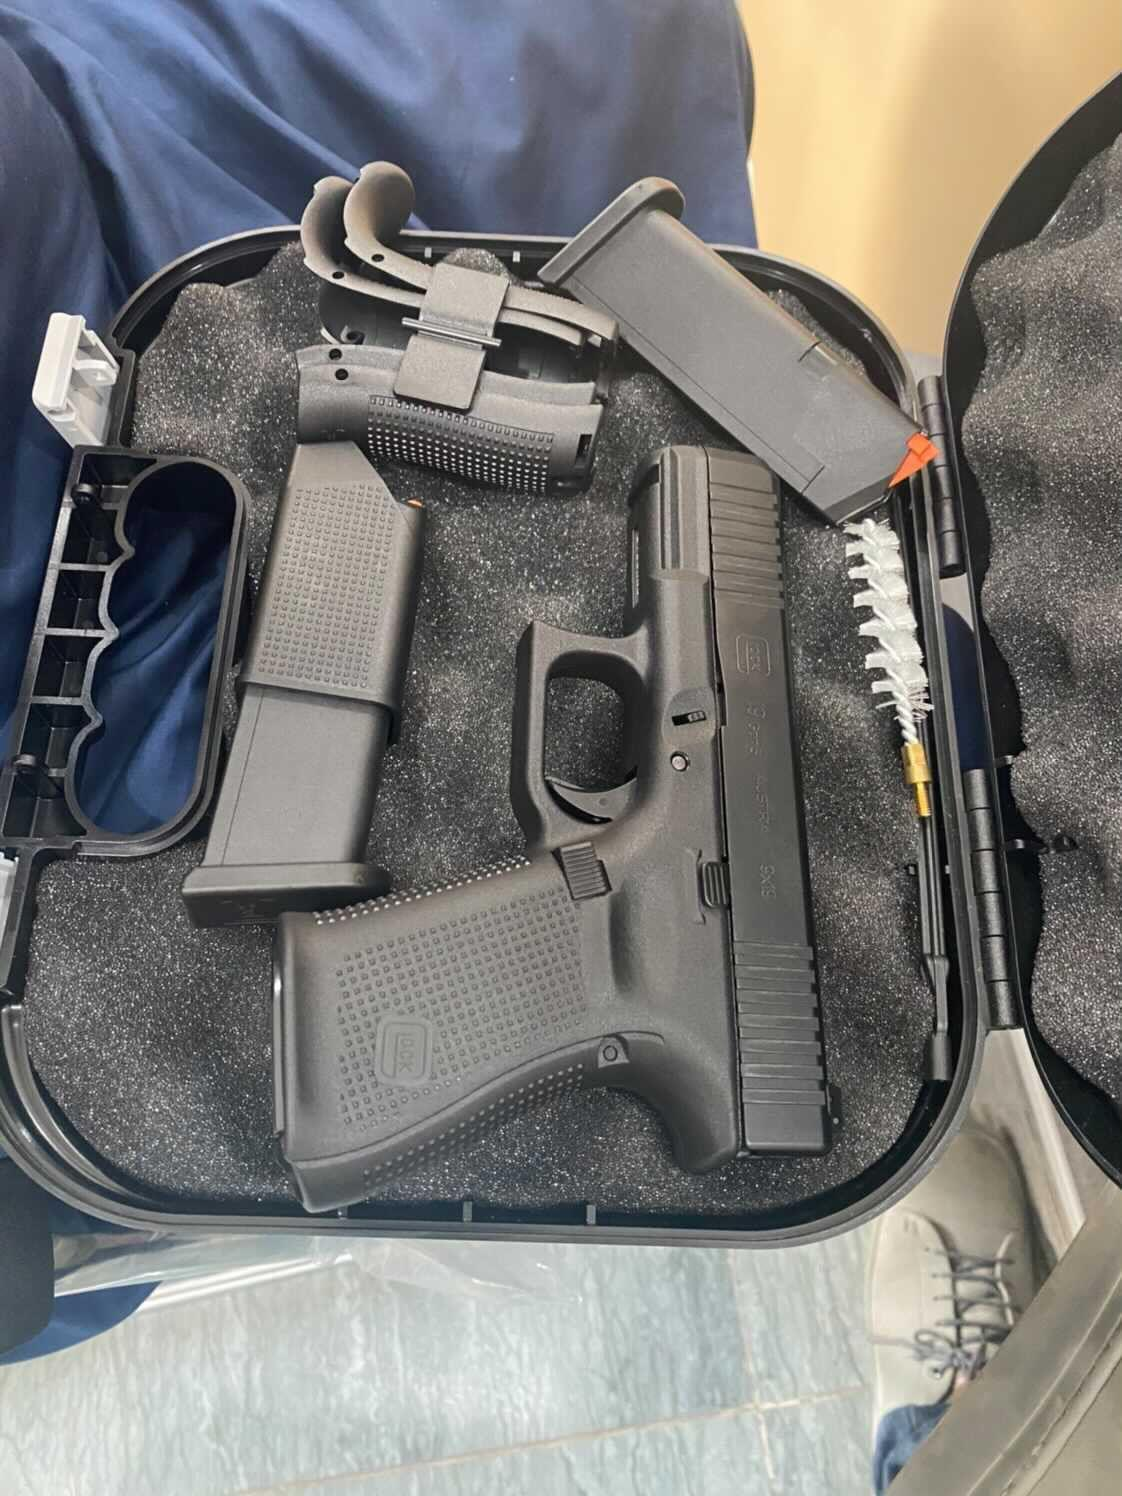weapon: (269, 444, 841, 1212)
